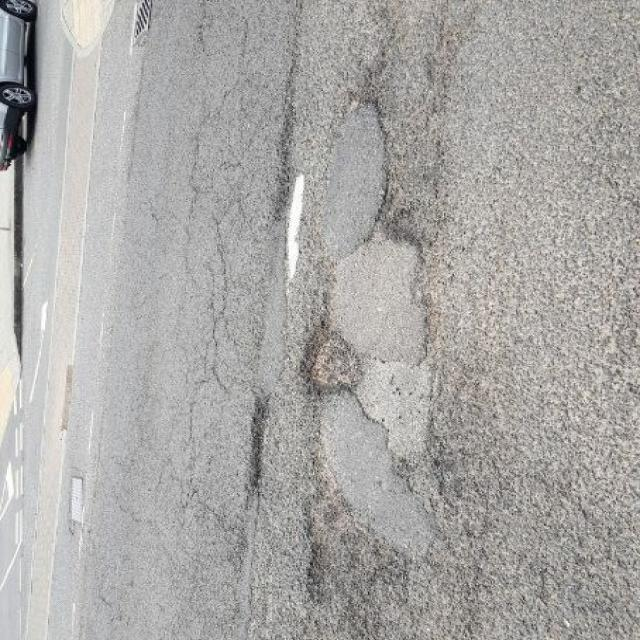pothole: (293, 487, 360, 607), (286, 317, 376, 393), (368, 164, 434, 248), (238, 393, 279, 488)
